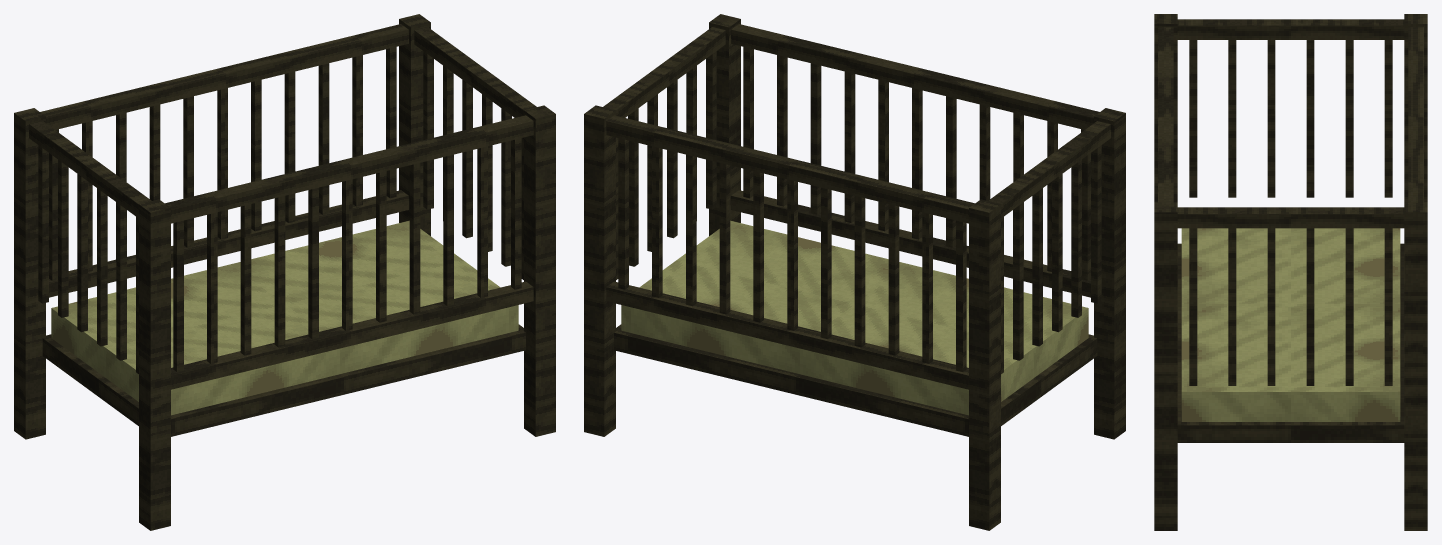
Rendered from Crib.fbx.
3 renders of one model, left to right at view 1: azimuth 30°, elevation 25°; view 2: azimuth 150°, elevation 25°; view 3: azimuth 270°, elevation 25°, orthographic.
Visible parts, largest first — view 1: Crib_Frame, Crib_Mattress; view 2: Crib_Frame, Crib_Mattress; view 3: Crib_Frame, Crib_Mattress.
Boxes of the visible parts, box(x1,y1,x2,y2) form: Crib_Frame: box(14, 14, 555, 530); Crib_Mattress: box(51, 220, 518, 415); Crib_Frame: box(584, 14, 1125, 530); Crib_Mattress: box(621, 220, 1088, 415); Crib_Frame: box(1154, 14, 1427, 530); Crib_Mattress: box(1181, 228, 1400, 421).
Bounding box in the file's own units: 1.2 × 0.9 × 0.7.
Materials: 2 (2 with a texture image).
